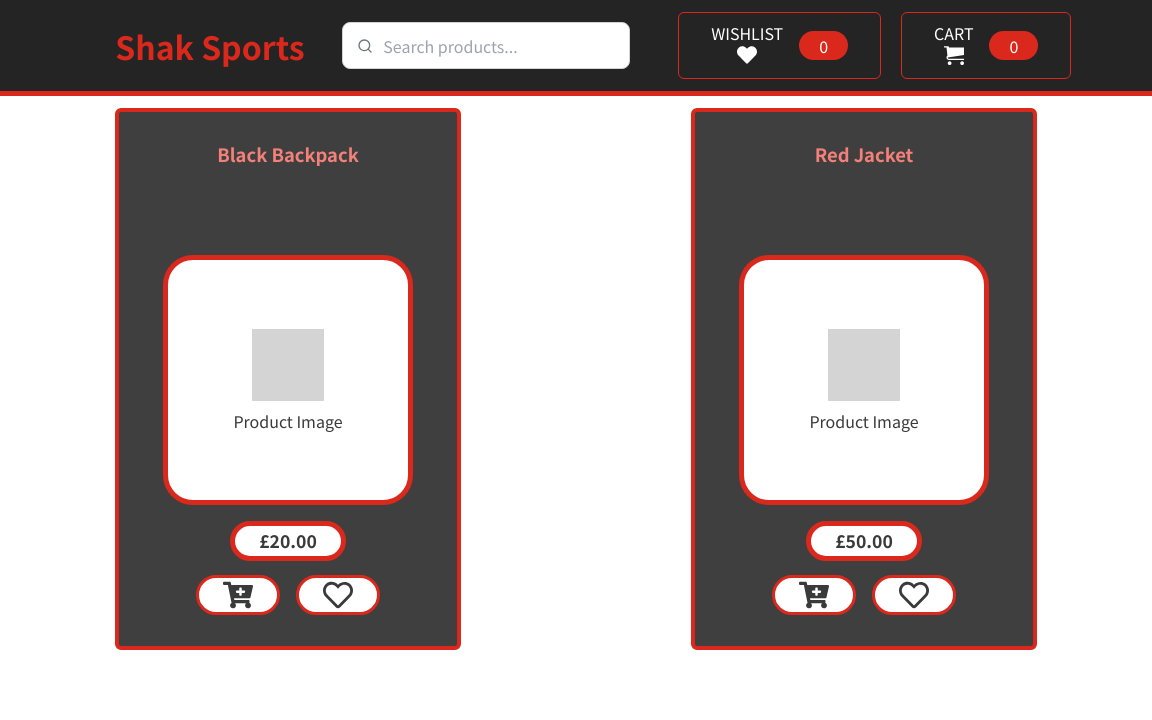
search integration › filters products when the user searches
Expected: the heading "Black Backpack" is shown, [217,141,359,167]
Expected: the heading "Red Jacket" is shown, [815,141,913,167]
Type "jacket" into the field labelled "Search products...". click: (486, 46)
box: [342,22,630,69]
Wait 300 ms
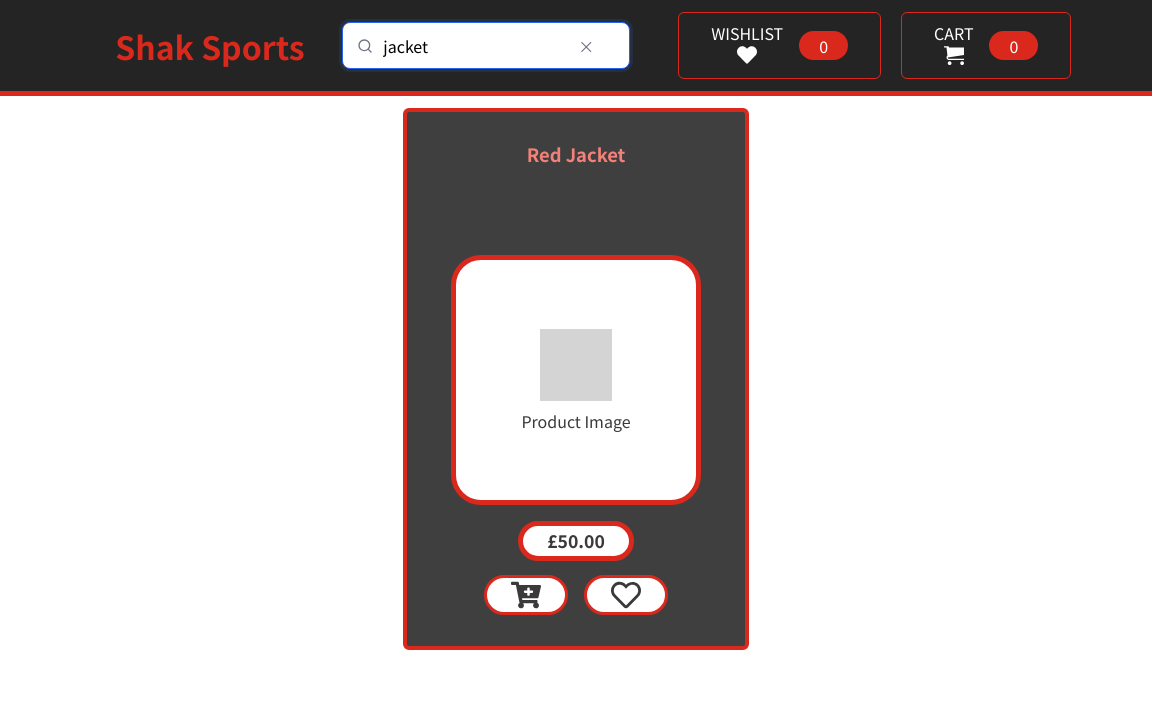
Expected: the heading "Red Jacket" is shown, [527,141,625,167]
Result: the heading "Black Backpack" is gone
